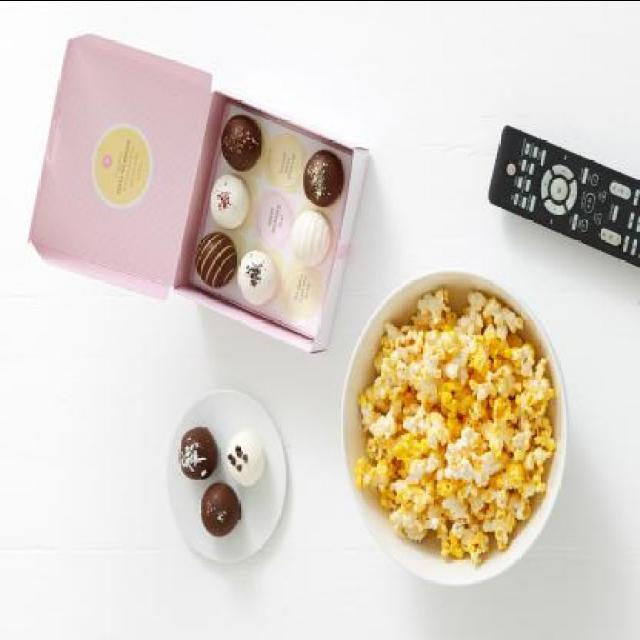Popcorn: (354, 287, 554, 564)
